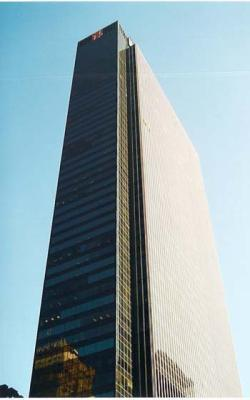building: (0, 19, 242, 400)
